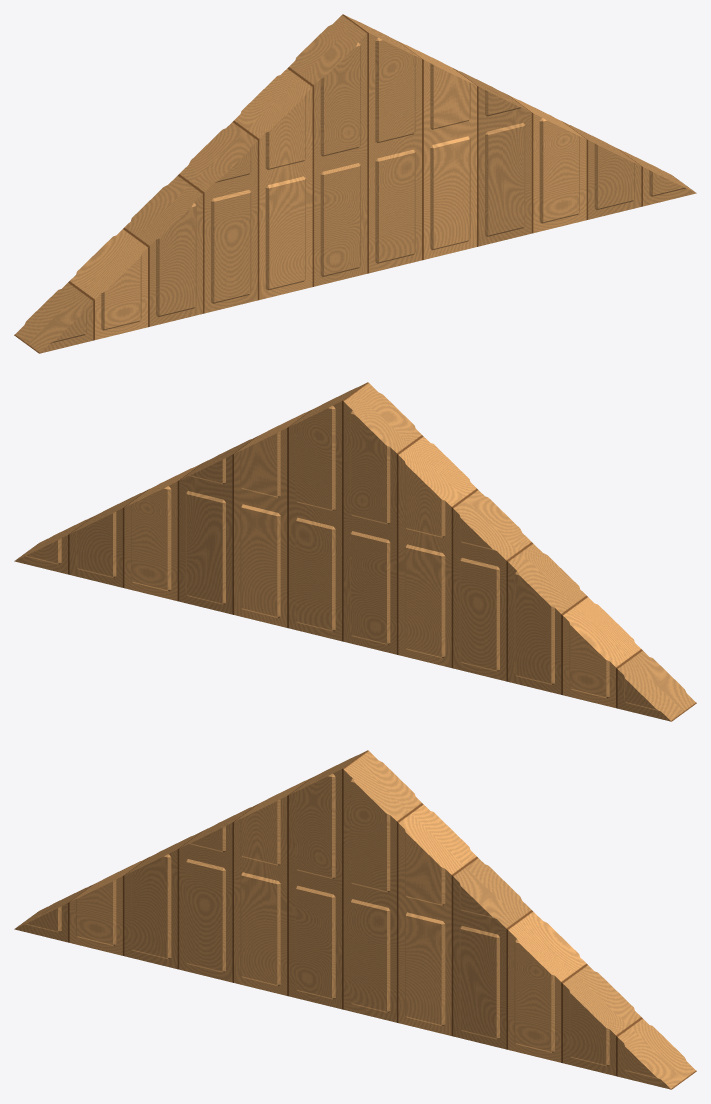
Rendered from Kit_Wood_Gable.fbx.
The picture shows the model from 3 angles, top to bottom: view 1: azimuth 30°, elevation 25°; view 2: azimuth 150°, elevation 25°; view 3: azimuth 330°, elevation 25°; orthographic projection.
Visible parts, largest first — view 1: Kit_Wood_Gable_LOD0; view 2: Kit_Wood_Gable_LOD0; view 3: Kit_Wood_Gable_LOD0.
Boxes of the visible parts, bbox=[...] form: Kit_Wood_Gable_LOD0: bbox=[14, 14, 696, 353]; Kit_Wood_Gable_LOD0: bbox=[14, 382, 696, 721]; Kit_Wood_Gable_LOD0: bbox=[14, 750, 696, 1089].
Size of what is drawn, in the model's own units: 3 by 1.05 by 0.22.
